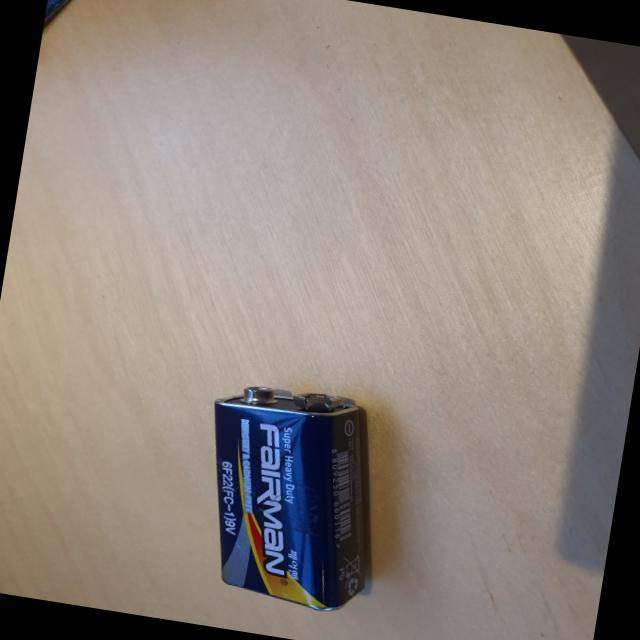battery-etc-etc: (177, 363, 402, 620)
